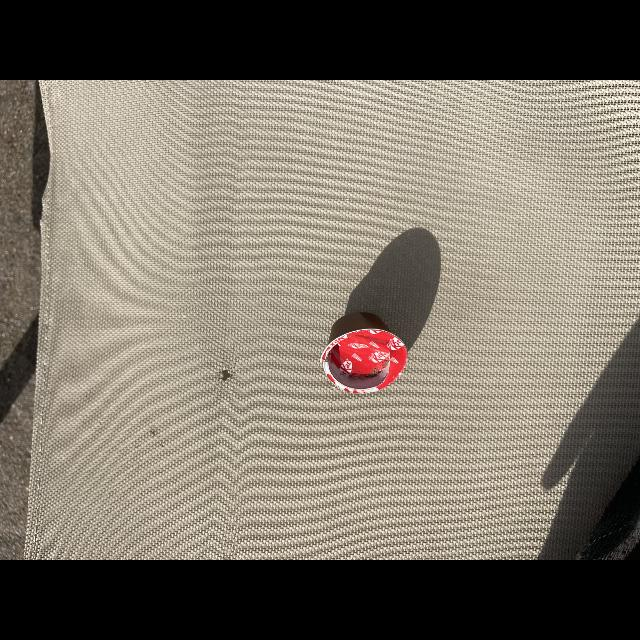damaged_capsule: (314, 308, 414, 398)
